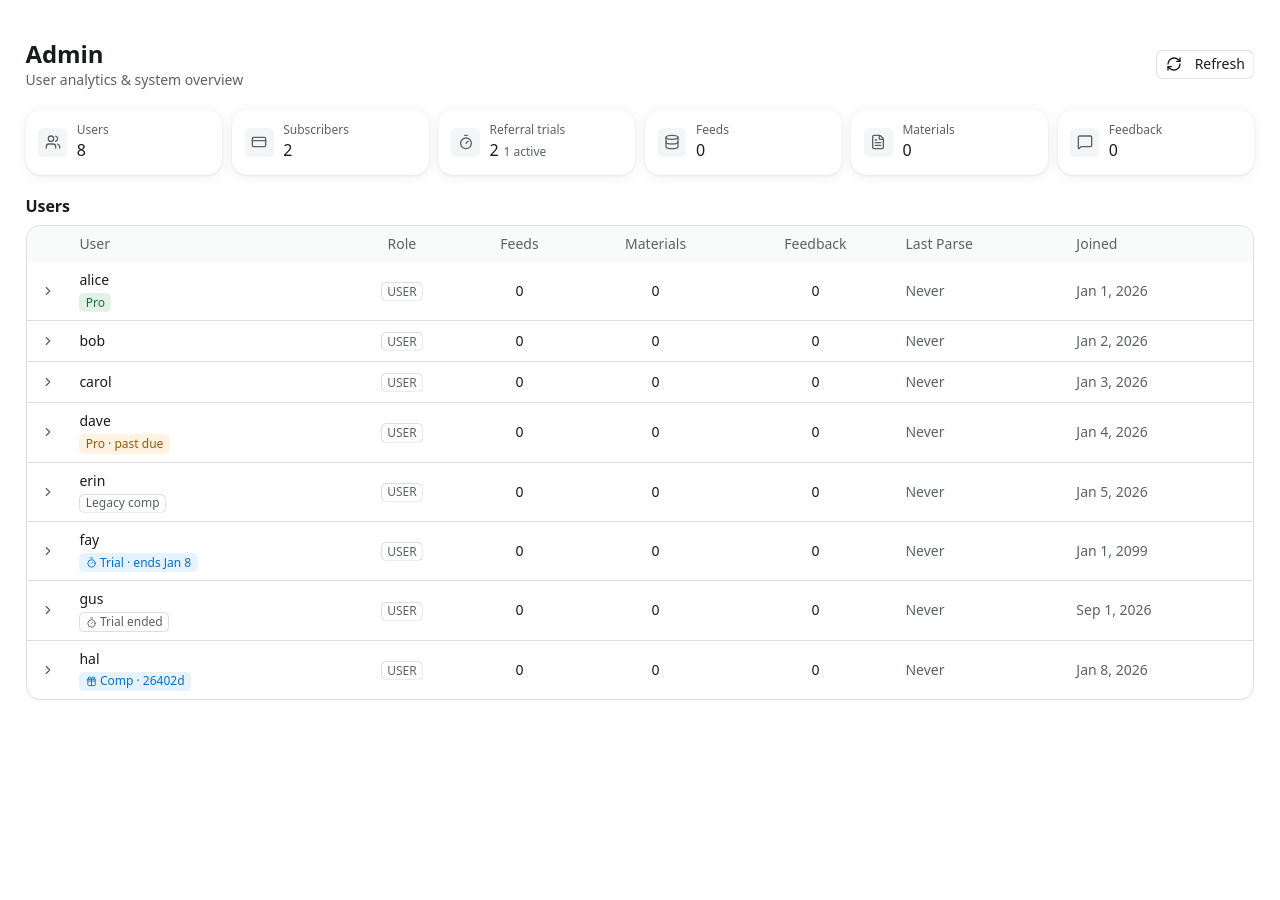
Test: AdminDashboard — paid subscriptions › shows a lapsed subscription as canceled without claiming access
This screenshot has width=1280, height=900.
Expected: the text "bob" is shown, [79,331,105,350]
Click the button named "Expand user details" next to "bob": click(48, 341) [36,329,60,353]
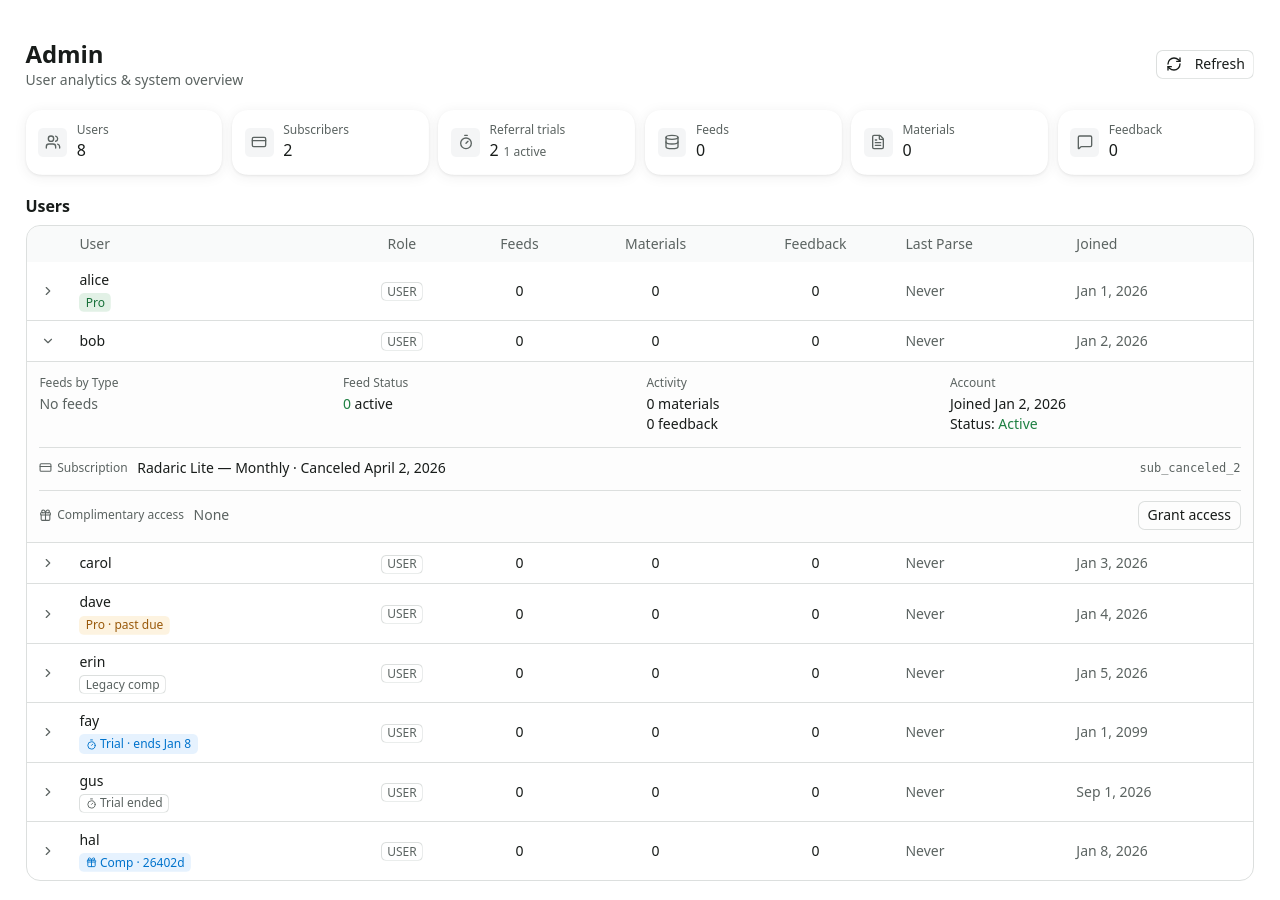
Now the text "Radaric Lite — Monthly · Canceled April 2, 2026" is shown, box [137,458,446,476]
Now the text "sub_canceled_2" is shown, box [1140,460,1241,476]
